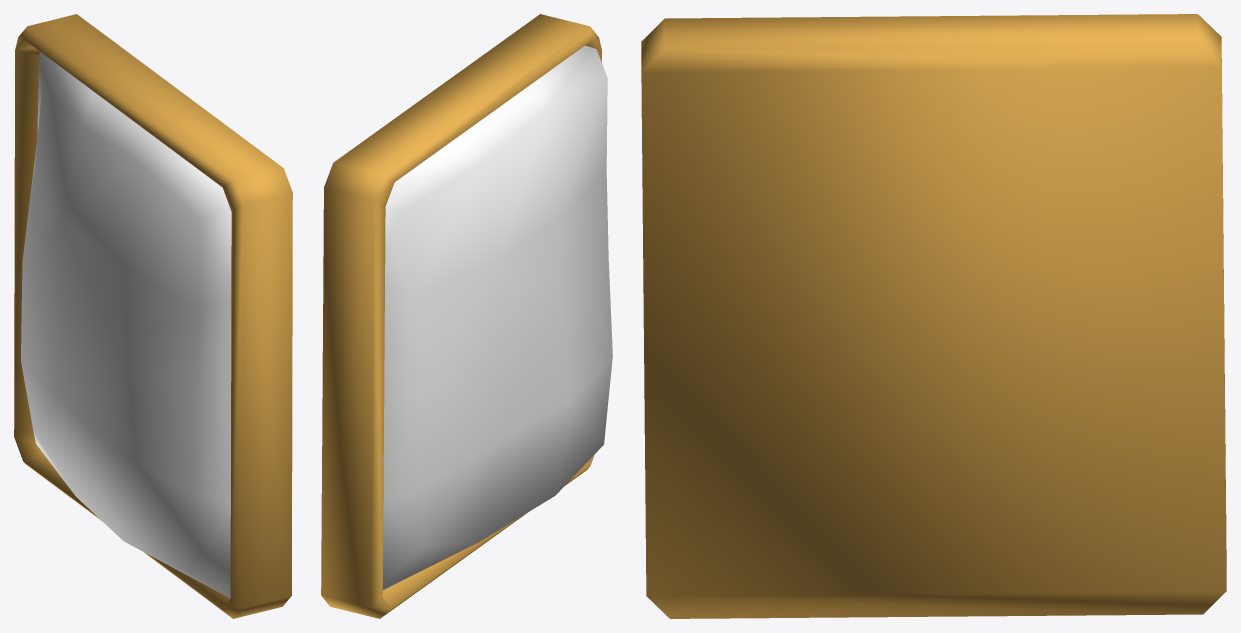
File: pollo.glb
3 views of the same model, side by side, from view 1: azimuth 30°, elevation 25°; view 2: azimuth 150°, elevation 25°; view 3: azimuth 270°, elevation 25° (orthographic). The views are drawn at different scales.
Visible parts, largest first — view 1: pollo.001; view 2: pollo.001; view 3: pollo.001.
Part boxes in pixels (bbox=[...]): pollo.001: bbox=[14, 14, 292, 618]; pollo.001: bbox=[321, 14, 612, 618]; pollo.001: bbox=[641, 14, 1226, 618].
Size of the model in its own units: 0.0925 by 0.3859 by 0.3572.
3 materials, 2 textured.
